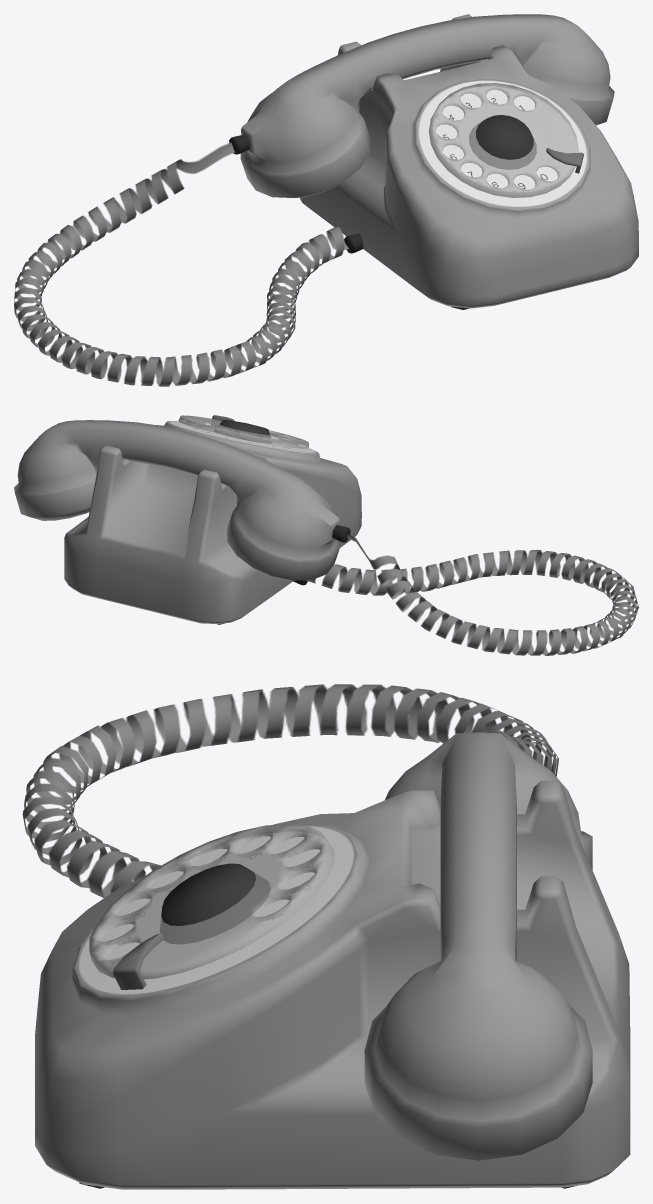
Rendered from phone-opt.glb.
3 renders of one model, top to bottom at view 1: azimuth 30°, elevation 25°; view 2: azimuth 150°, elevation 25°; view 3: azimuth 270°, elevation 25°, orthographic. The views are drawn at different scales.
Visible parts, largest first — view 1: Phone, Buttons, Cord; view 2: Phone, Buttons, Cord; view 3: Phone, Buttons, Cord.
Boxes of the visible parts, x1,y1,x2,y2 form: Phone: (299, 14, 638, 309); Buttons: (229, 14, 614, 197); Cord: (14, 83, 578, 386); Phone: (64, 415, 361, 624); Buttons: (14, 420, 350, 580); Cord: (178, 415, 638, 655); Phone: (35, 781, 630, 1189); Buttons: (364, 732, 592, 1160); Cord: (22, 684, 558, 979).
Bounding box in the file's own units: 0.4935 × 0.1327 × 0.2365.
2 materials, 2 textured.
